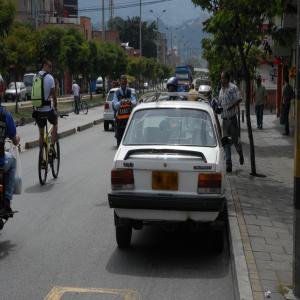Vehicle-registration-plate: (153, 173, 179, 192)
